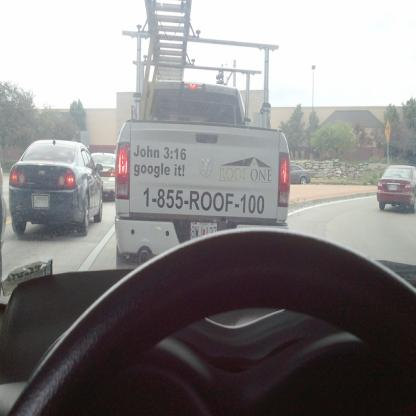Truck: (114, 0, 291, 267)
